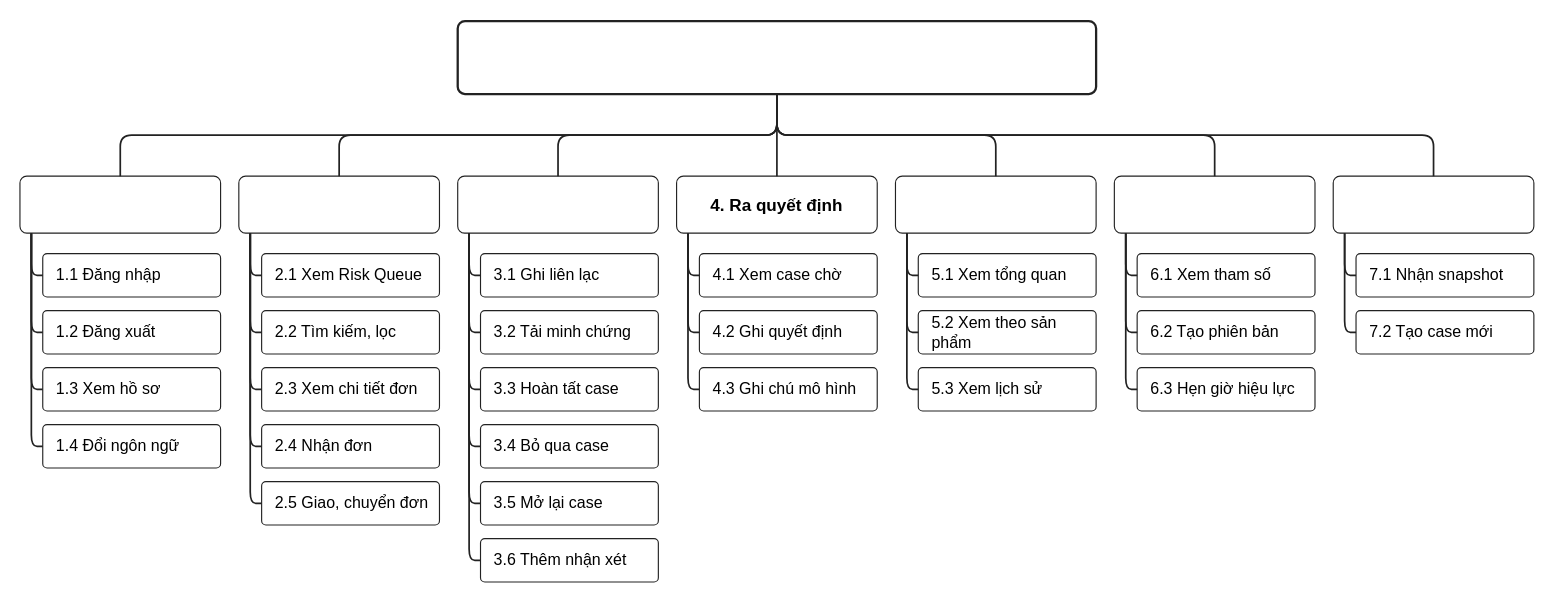
Some shapes in this 1554 by 602 pixel diagram are drawn without their labels. Here are the shapes that lost their labels. From the top down, the centre of each, then its label:
At point 776,57: "HỆ THỐNG HỖ TRỢ XỬ LÝ ĐƠN HÀNG CÓ NGUY CƠ KHÔNG HÀI LÒNG ẨN".
At point 120,204: "1. Quản lý tài khoản".
At point 338,204: "2. Quản lý hàng đợi".
At point 557,204: "3. Xử lý case".
At point 995,204: "5. Giám sát".
At point 1214,204: "6. Cấu hình".
At point 1433,204: "7. Nạp dự đoán".
